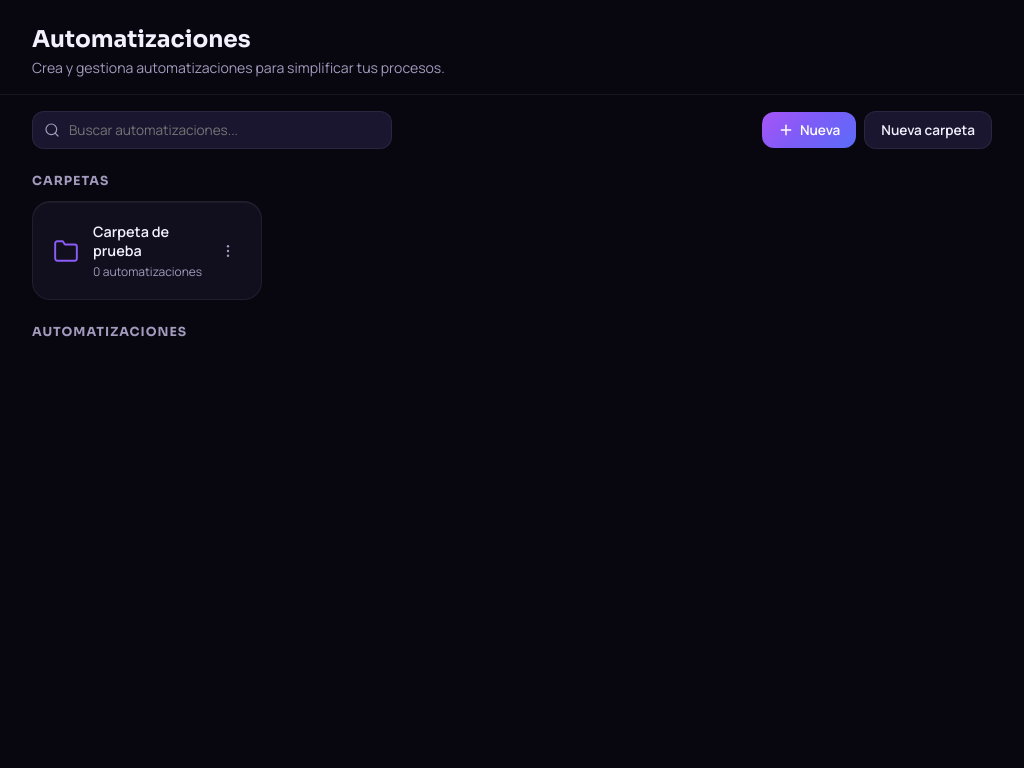
AutomationsHubPage — creación de carpeta › permite crear una segunda carpeta cuando ya existe contenido
expect the text "Carpeta de prueba" is shown: met, box [93,222,169,260]
Click the button "Nueva carpeta": (928, 130) [864,111,992,149]
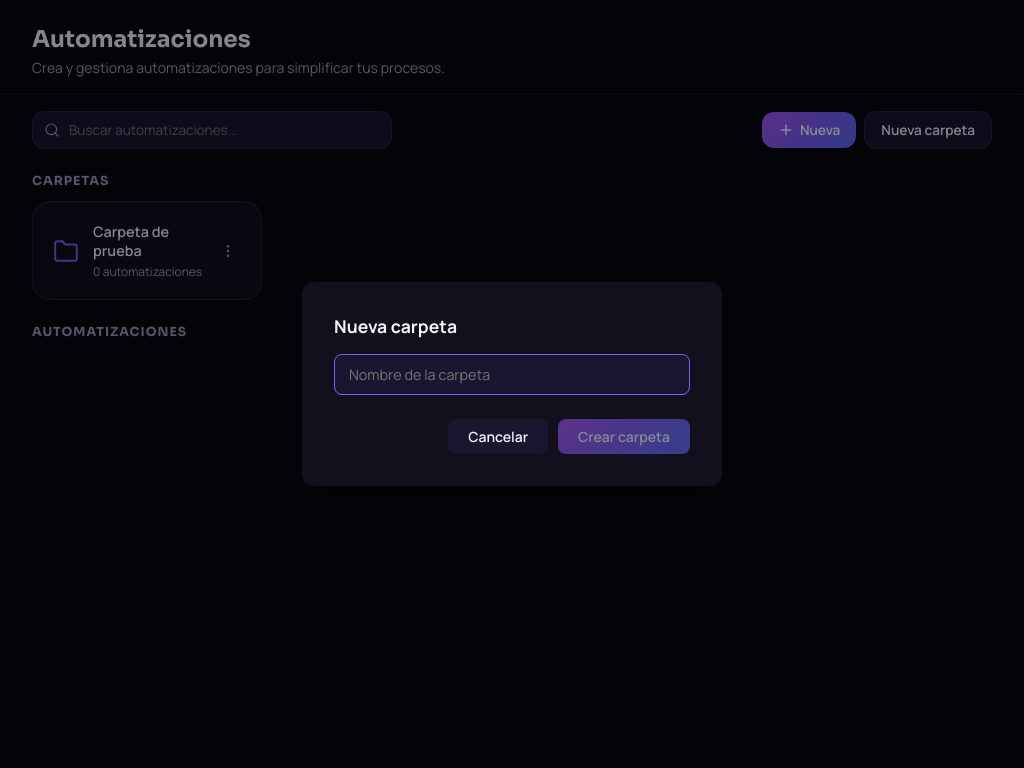
In the field labelled "Nombre de la carpeta": (512, 374) [334,354,690,395], type "Segunda"
Then press Enter
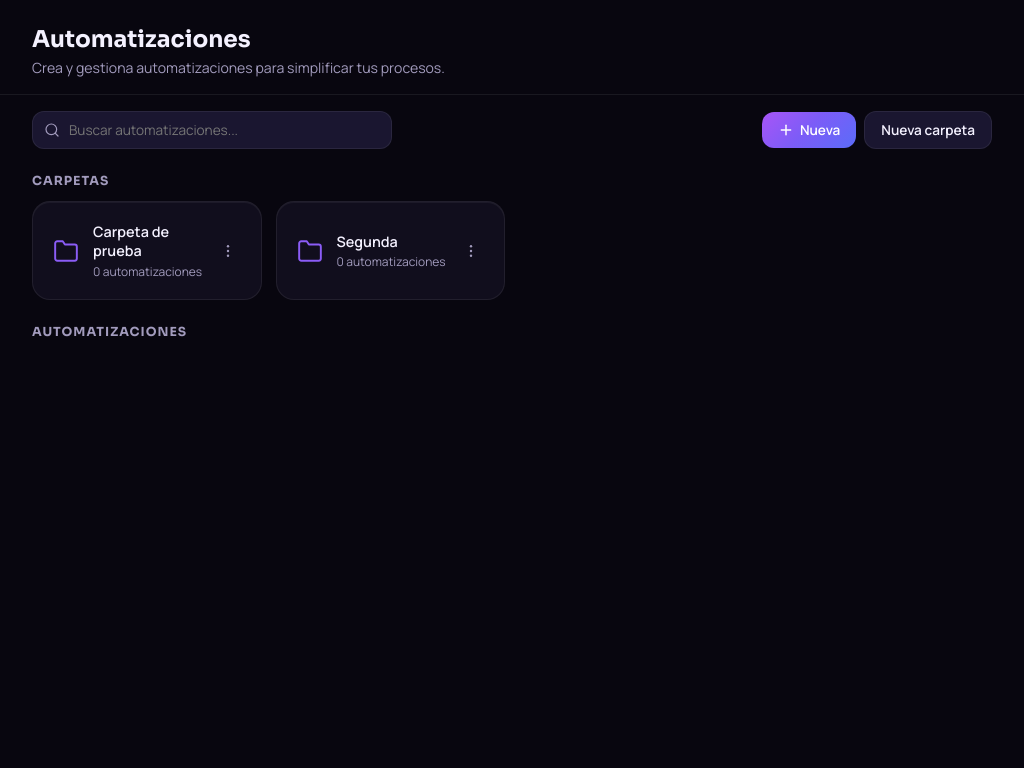
expect the text "Carpeta de prueba" is shown: met, box [93,222,169,260]
expect the text "Segunda" is shown: met, box [336,232,398,251]
Click the button "Nueva carpeta": (928, 130) [864,111,992,149]
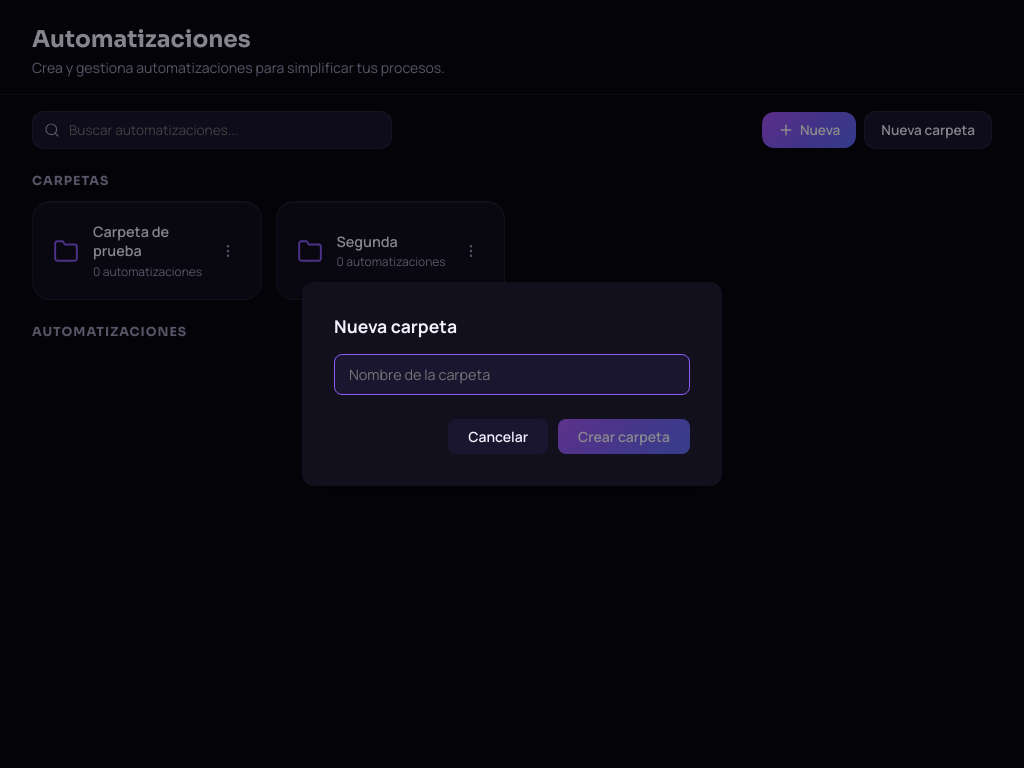
In the field labelled "Nombre de la carpeta": (512, 374) [334,354,690,395], type "Tercera"
Then press Enter
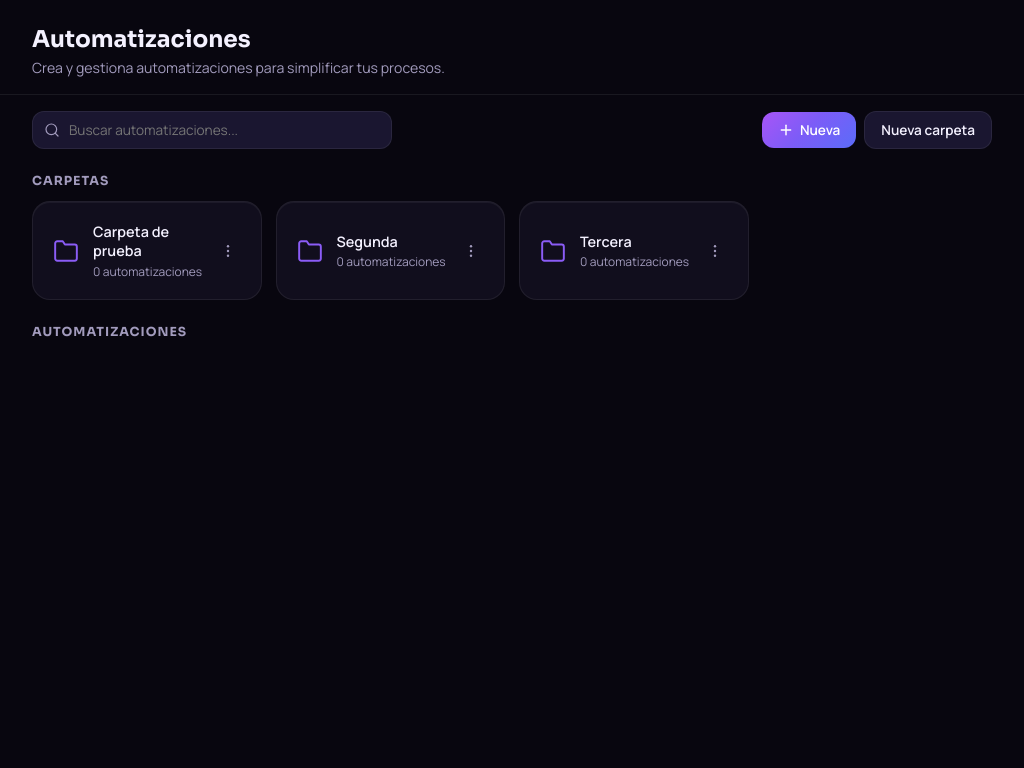
expect the text "Tercera" is shown: met, box [580,232,632,251]
